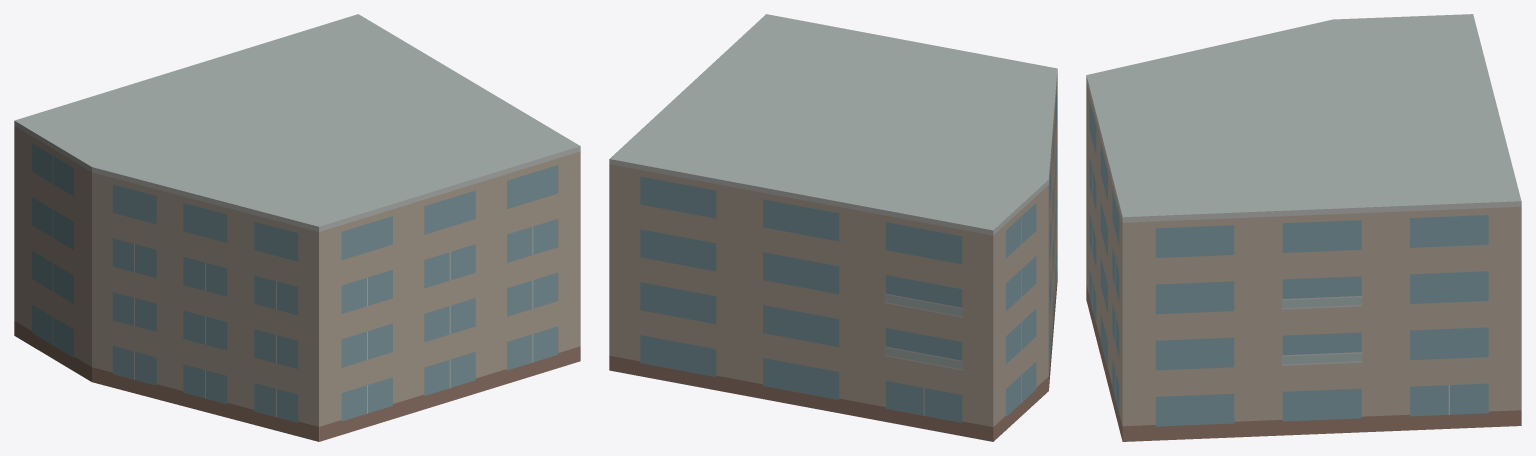
Rendered from survey-upis-32800767.glb.
3 views of the same model, side by side, from view 1: azimuth 30°, elevation 25°; view 2: azimuth 150°, elevation 25°; view 3: azimuth 270°, elevation 25° (orthographic). The views are drawn at different scales.
Parts seen in each view (by area): view 1: survey-upis-32800767.tmp; view 2: survey-upis-32800767.tmp; view 3: survey-upis-32800767.tmp.
Part boxes in pixels (box(x1,y1,x2,y2)): survey-upis-32800767.tmp: box(14, 14, 580, 441); survey-upis-32800767.tmp: box(609, 14, 1057, 441); survey-upis-32800767.tmp: box(1086, 14, 1521, 441).
Size of the model in its own units: 19.21 by 9.9 by 17.39.
